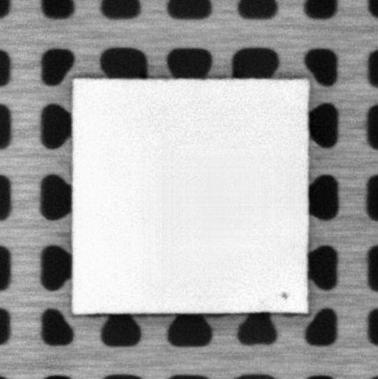DIE_INK: (280, 291, 290, 299)
